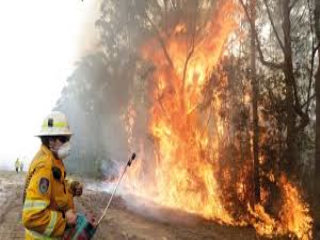fire: (128, 18, 313, 234)
